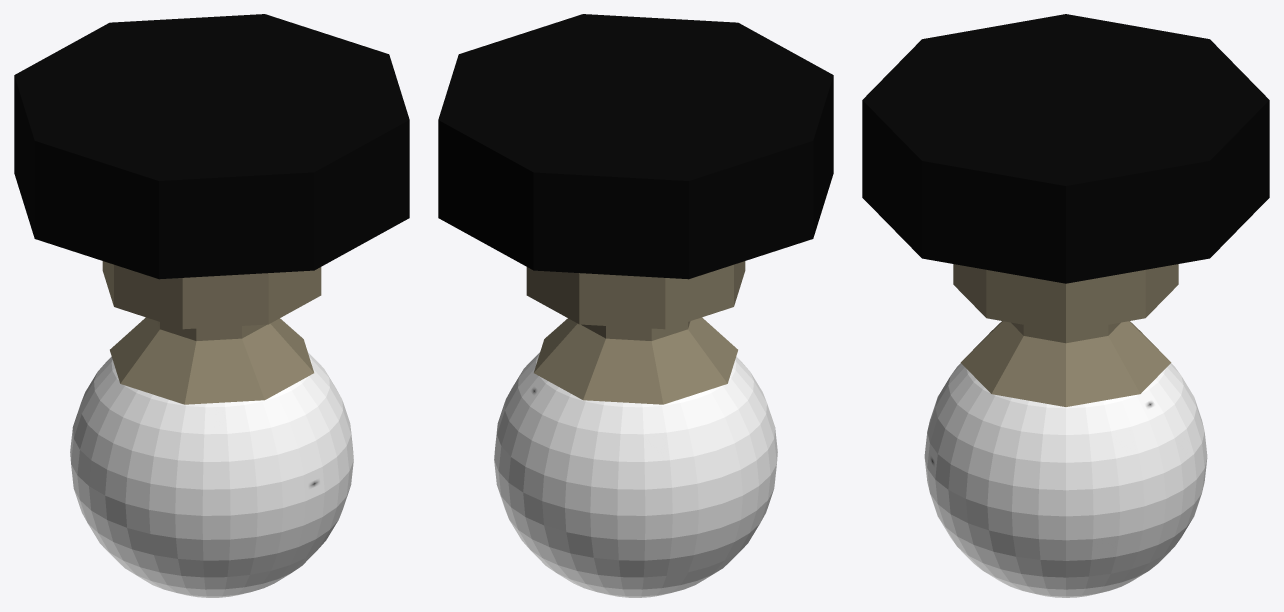
The model's file is M_LS_LightBulb.fbx.
The picture shows the model from 3 angles, left to right: view 1: azimuth 30°, elevation 25°; view 2: azimuth 150°, elevation 25°; view 3: azimuth 270°, elevation 25°; orthographic projection.
Parts seen in each view (by area): view 1: LightBulb; view 2: LightBulb; view 3: LightBulb.
Boxes of the visible parts, box(x1,y1,x2,y2) form: LightBulb: box(14, 14, 409, 597); LightBulb: box(438, 14, 833, 597); LightBulb: box(862, 14, 1269, 597).
Size of the model in its own units: 26.25 by 34.48 by 26.25.
1 material, 1 textured.
